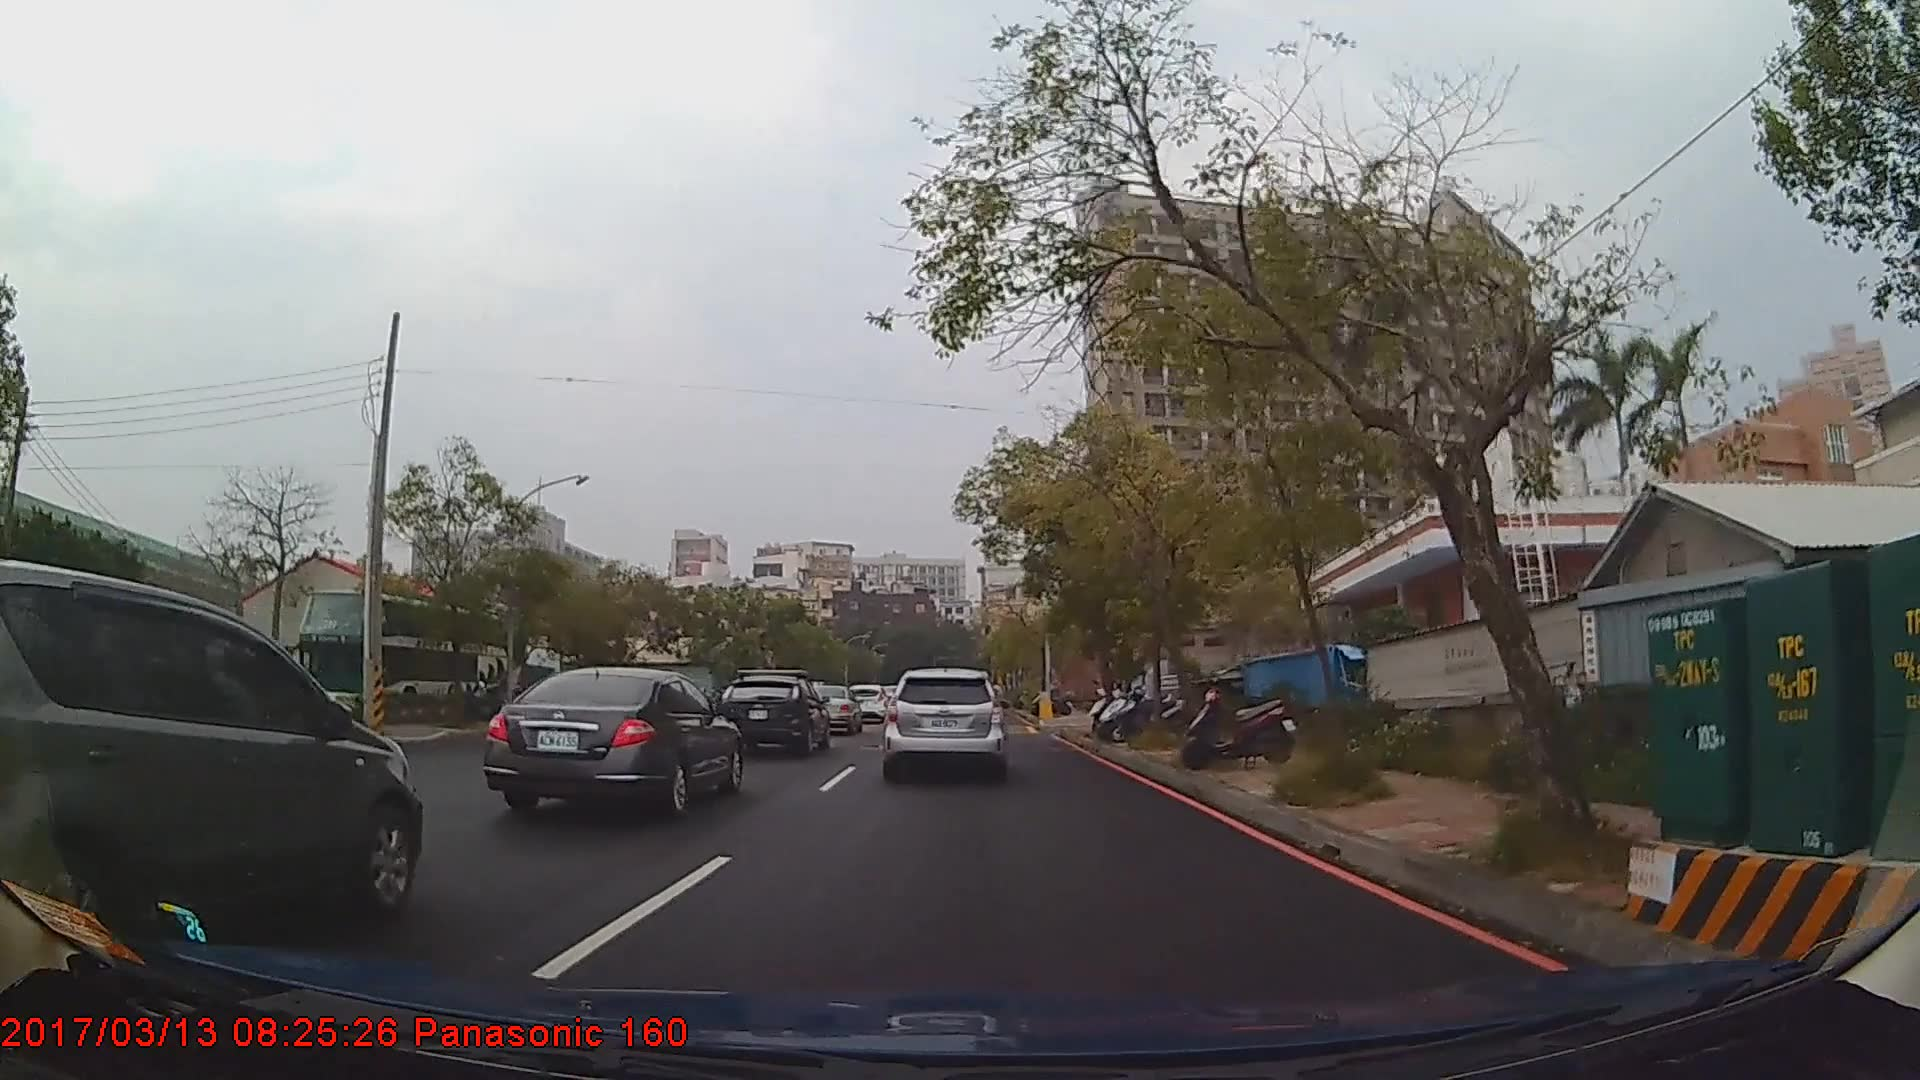vehicle: (0, 556, 422, 948), (483, 663, 745, 818), (295, 589, 506, 720), (881, 667, 1006, 781), (717, 667, 829, 756), (804, 684, 862, 736), (844, 683, 890, 723)
